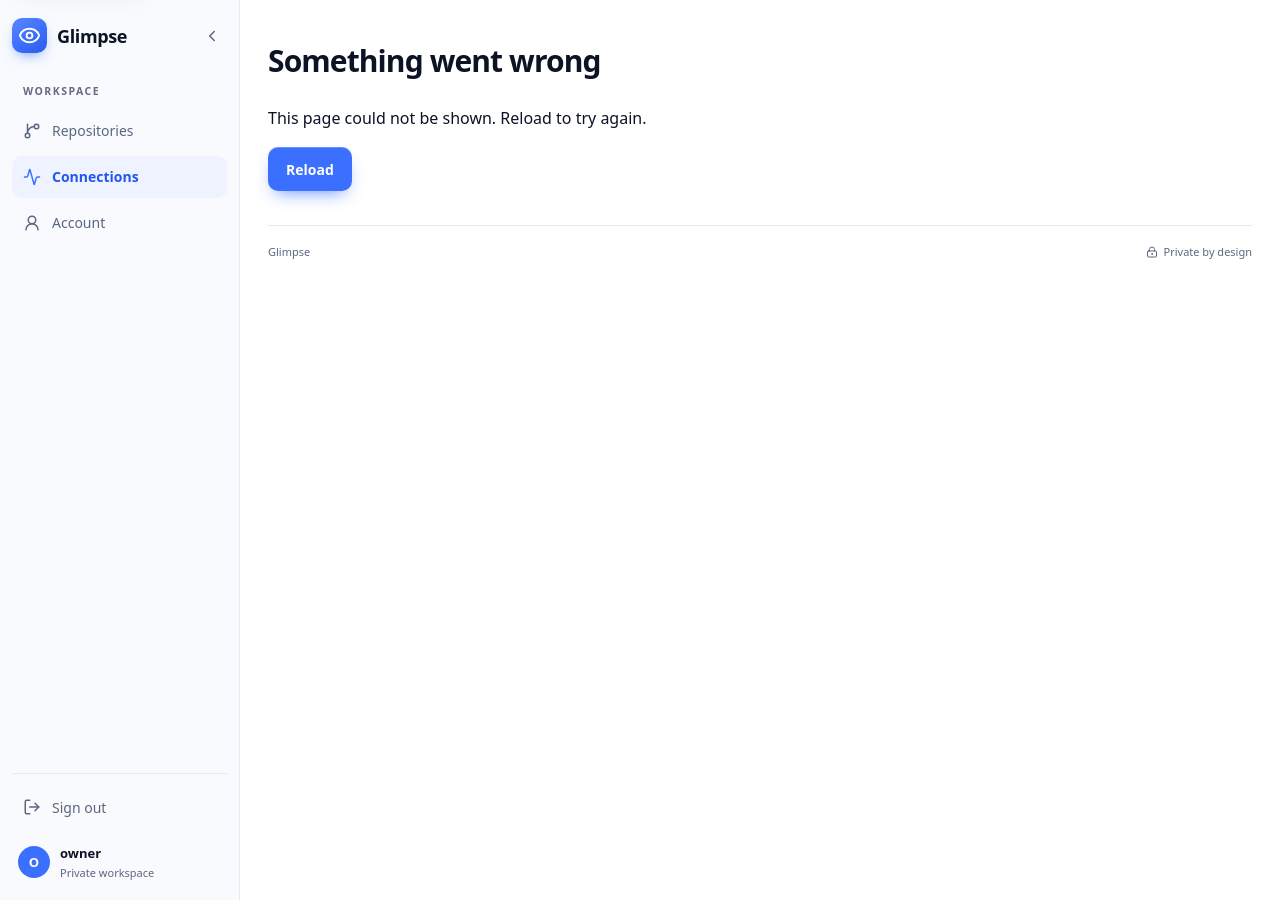
Test: keeps the workspace sidebar working when one page fails, and opens another page
Check: the message "Something went wrong" is shown, box [268,40,646,192]
Click the link "Account".
click(64, 223)  # box [23,213,105,232]
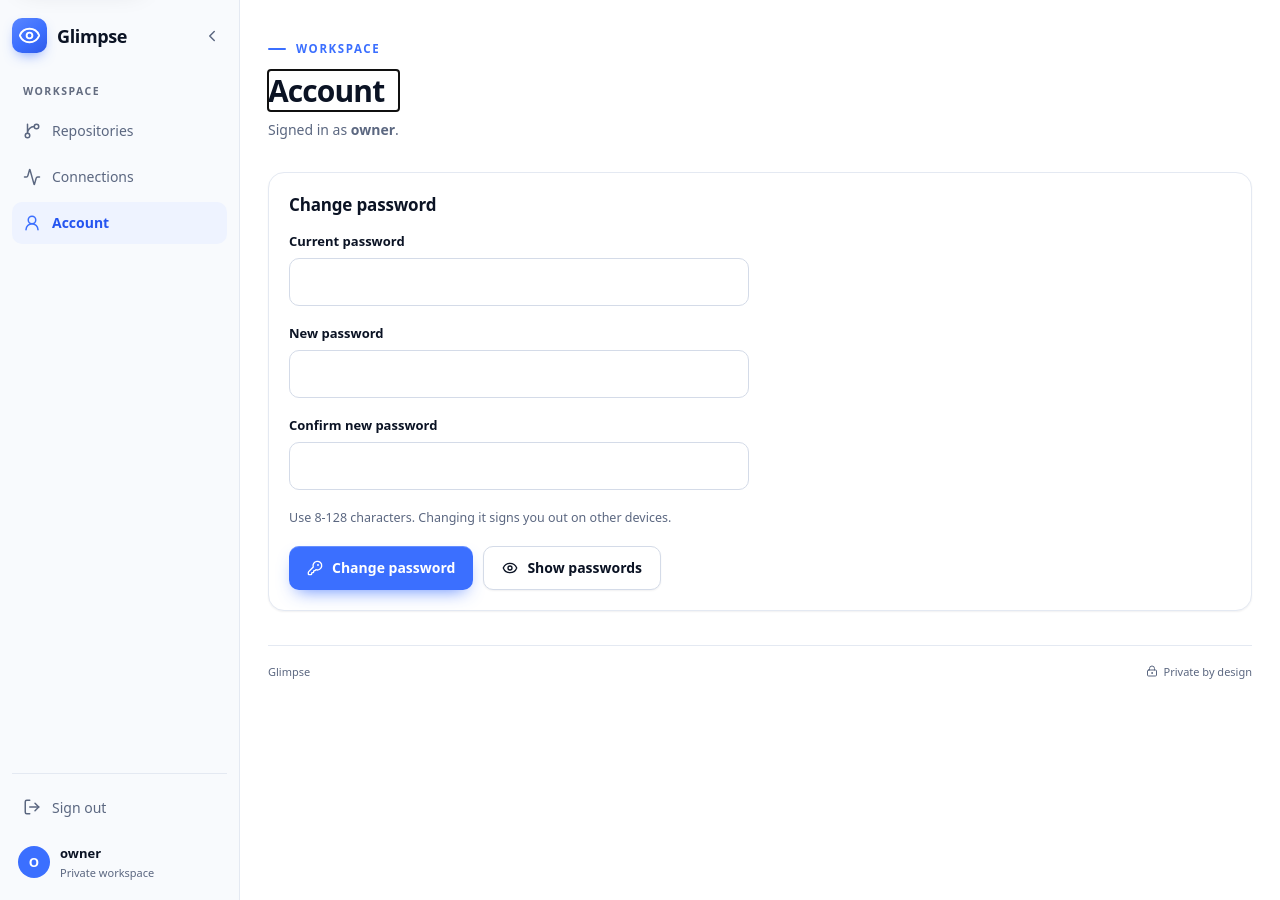
Check: the heading "Something went wrong" is gone
Check: the heading "Account" no longer shows "Something went wrong", box [268,70,399,111]
